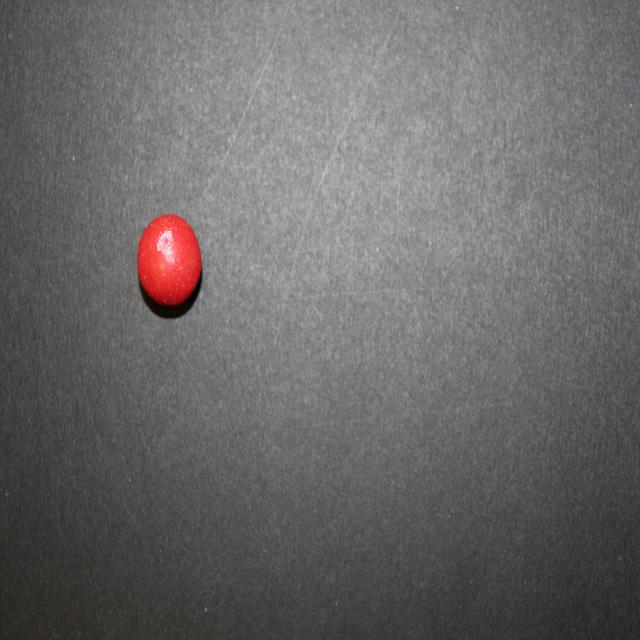smartie: (137, 214, 201, 305)
